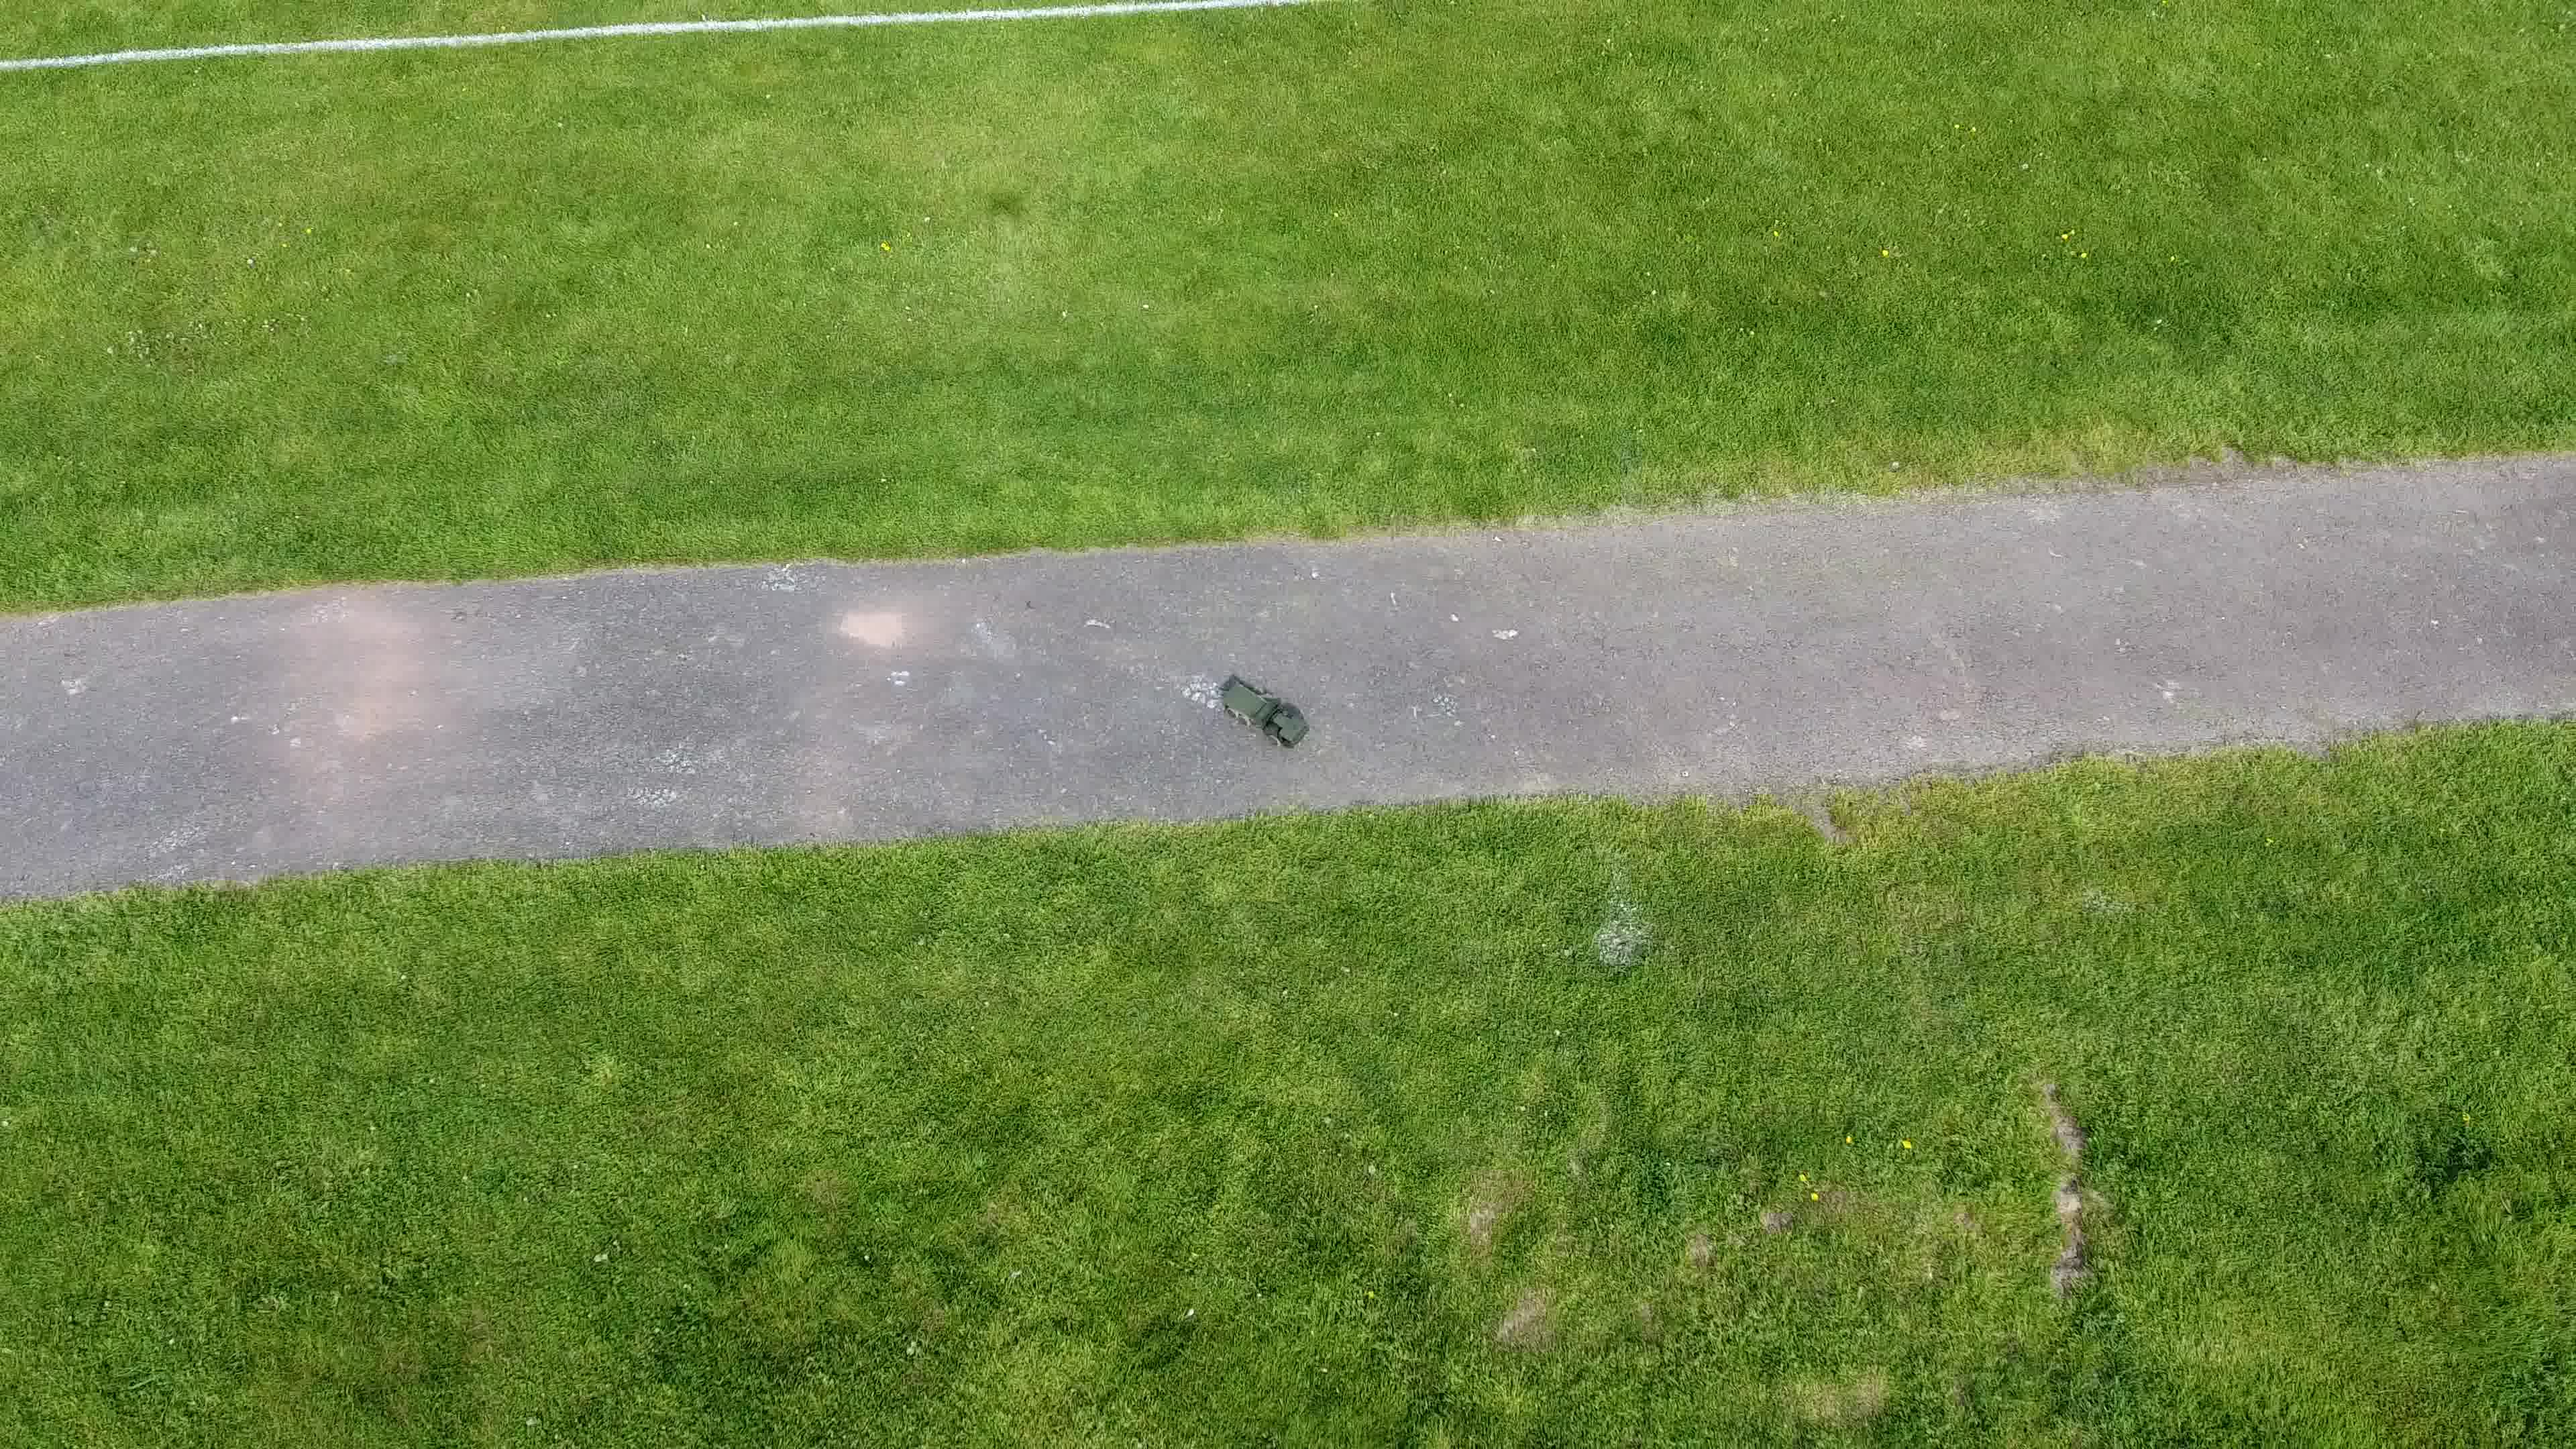transporter9: (1215, 676, 1313, 752)
